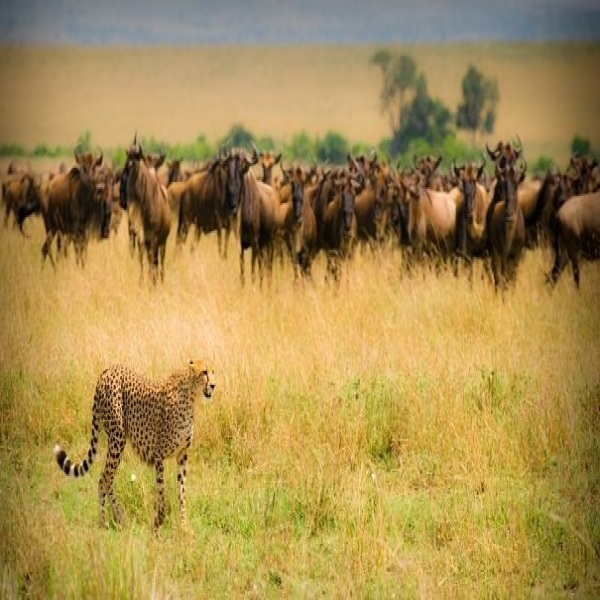Cheetah: (52, 354, 222, 533)
